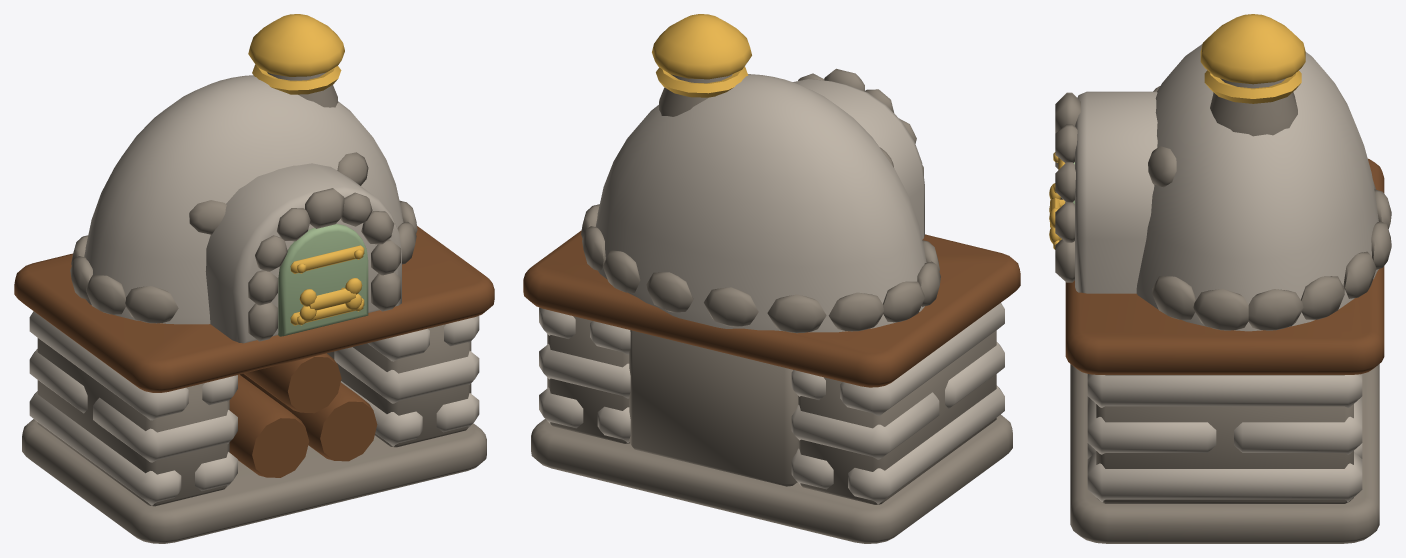
The model's file is ShopStove.fbx.
3 renders of one model, left to right at view 1: azimuth 30°, elevation 25°; view 2: azimuth 150°, elevation 25°; view 3: azimuth 270°, elevation 25°, orthographic. The views are drawn at different scales.
Parts seen in each view (by area): view 1: ShopStove; view 2: ShopStove; view 3: ShopStove.
Boxes of the visible parts, <box> form: ShopStove: <box>14,14,494,543</box>; ShopStove: <box>523,14,1020,543</box>; ShopStove: <box>1049,14,1391,543</box>.
Size of the model in its own units: 0.98 by 1.1 by 0.7312.
